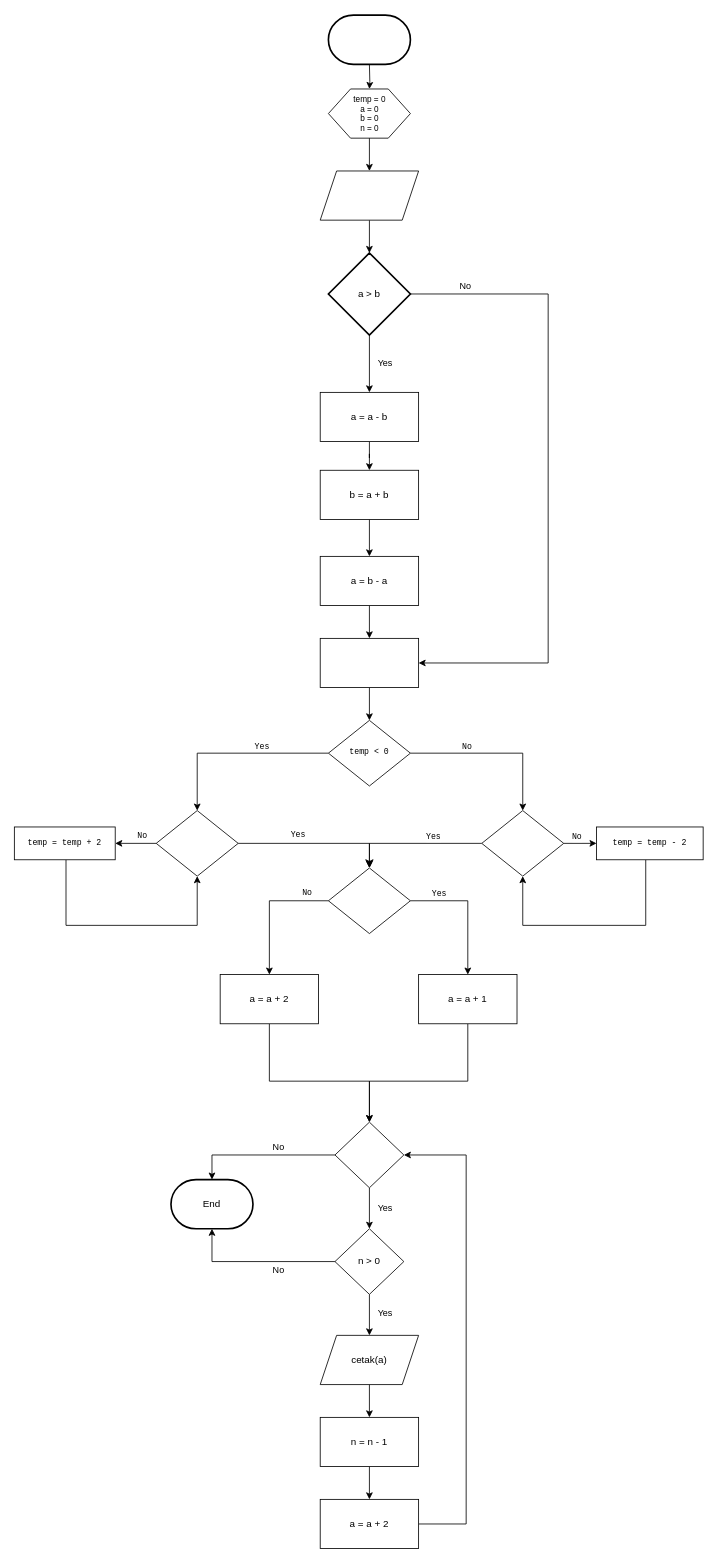
Some shapes in this 718 by 1563 pixel diagram are drawn without their labels. Here are the shapes that lost their labels. From the top down, the centre of each, then its label:
At (369,39): "Begin".
At (369,195): "input(a, b, n)".
At (369,663): "temp = a".
At (196,843): "temp > -2".
At (522,843): "temp < 2".
At (369,900): "temp = 0".
At (369,1154): "a < b".
